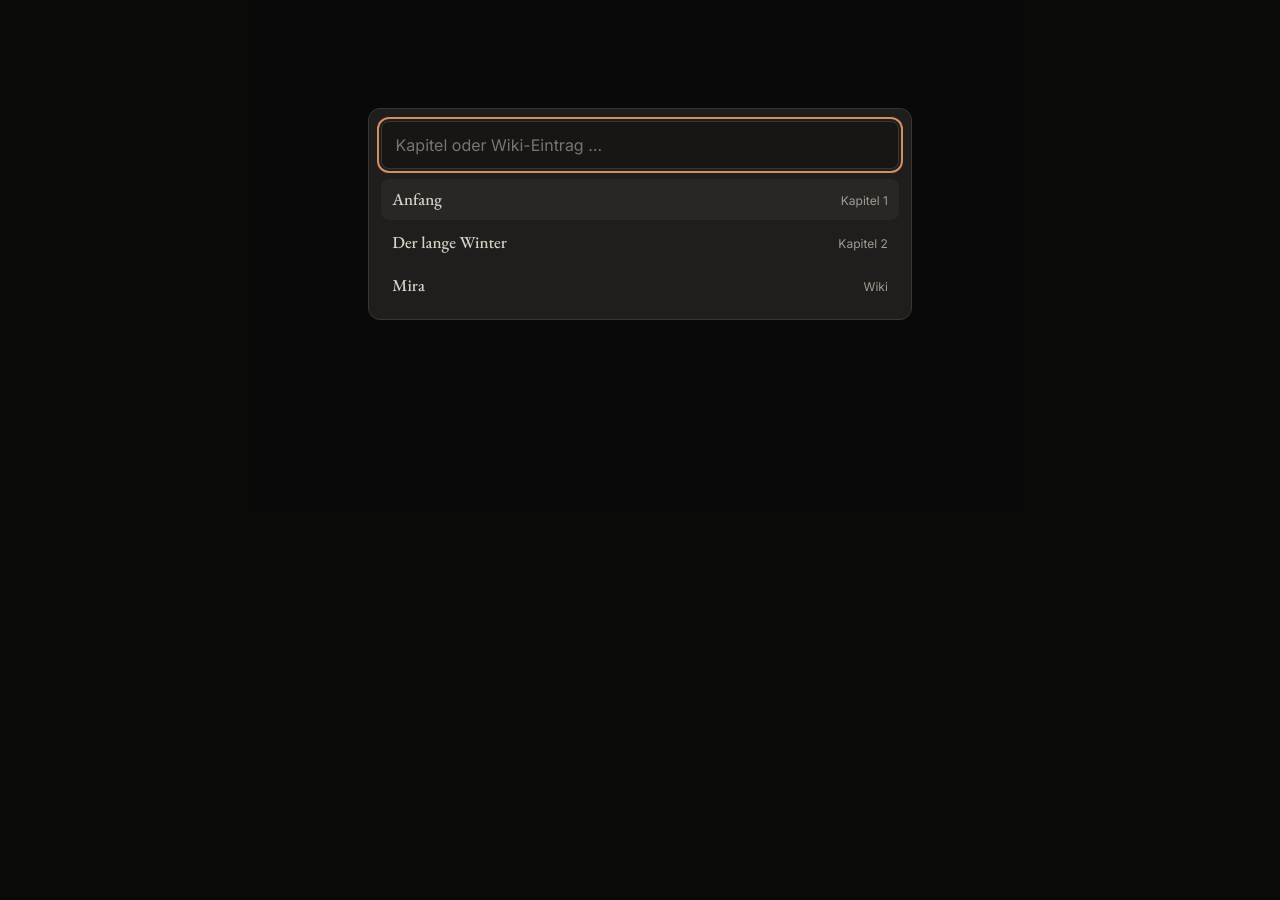
Enter without hits does nothing
This screenshot has width=1280, height=900.
Type "xyz" into the dropdown named "Kapitel oder Wiki-Eintrag suchen" at point(640, 145), box [381, 121, 899, 169]
Then press Enter
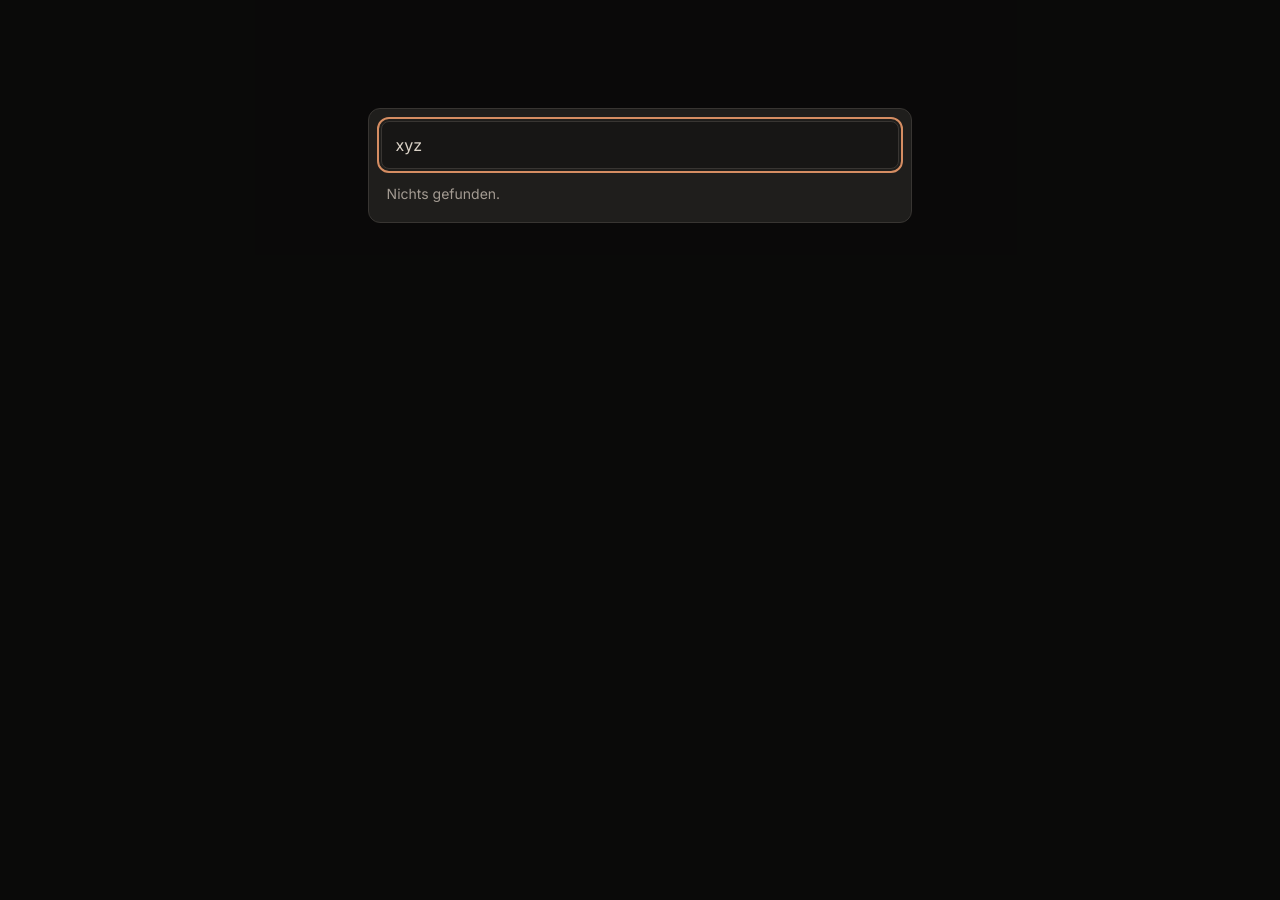
Check: the text "Nichts gefunden." is shown, box [387, 185, 500, 202]
